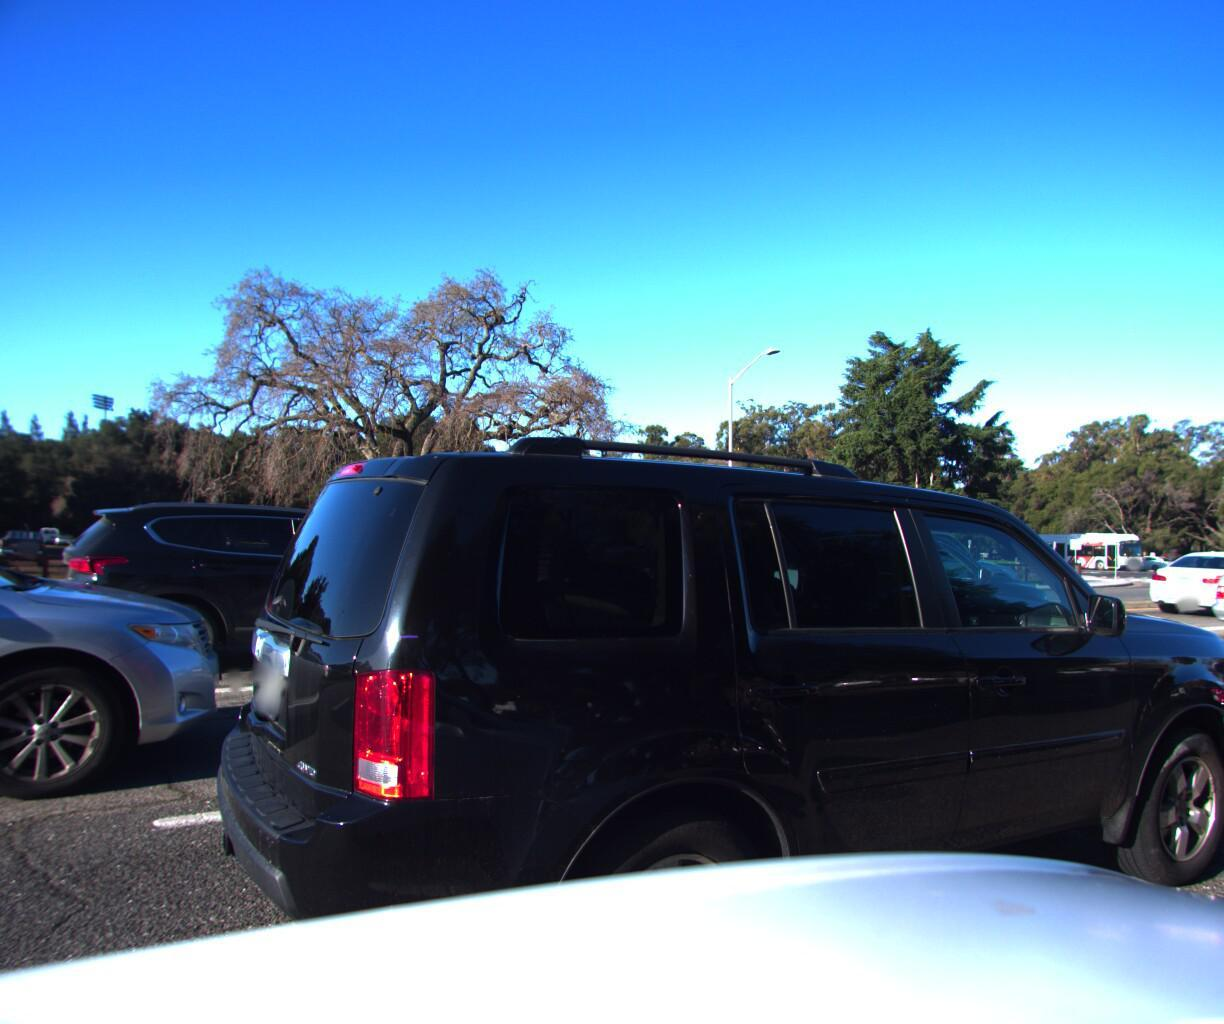bus: (1014, 527, 1148, 566)
car: (262, 367, 1224, 1024), (0, 437, 270, 949), (65, 480, 535, 679), (762, 514, 1037, 637), (1134, 536, 1224, 617), (1207, 544, 1224, 647)
